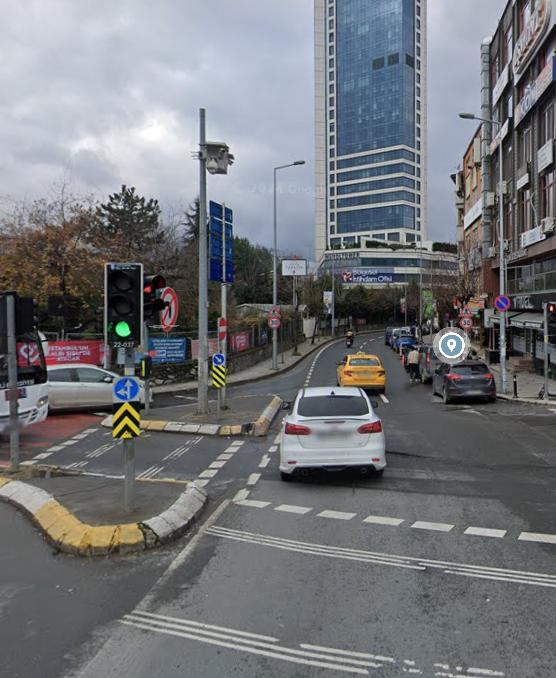greenlight: (106, 264, 142, 348)
leftturnsareforbidden: (160, 288, 179, 328)
nopark: (495, 296, 511, 312)
redlight: (143, 271, 161, 328)
